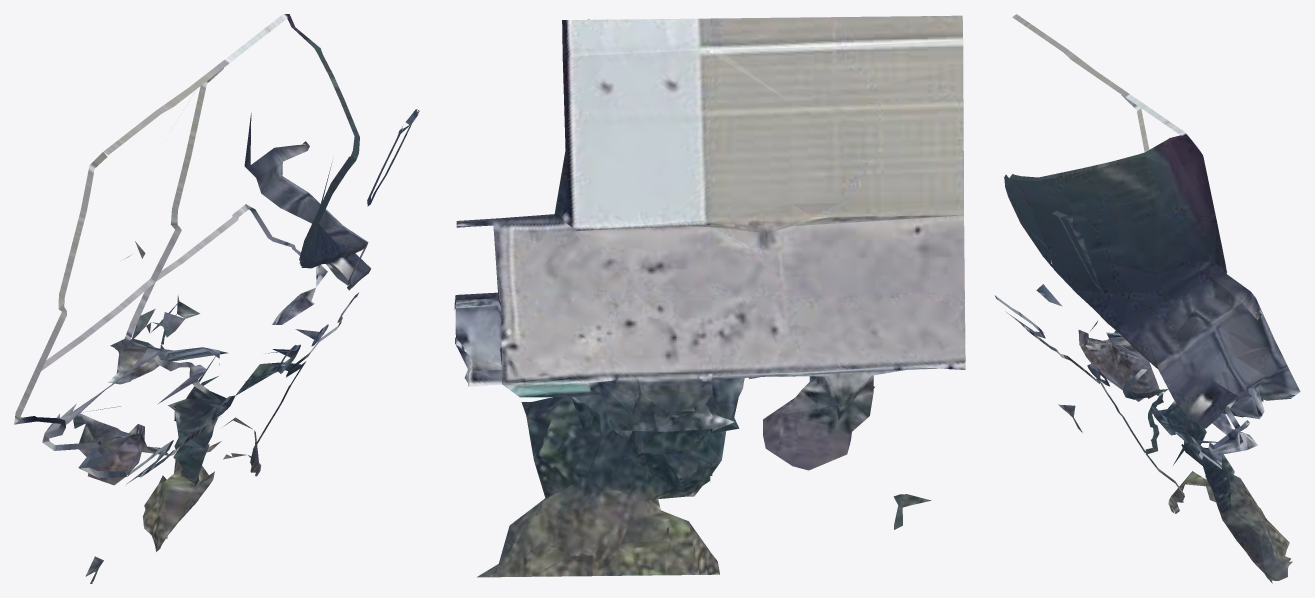
3 renders of one model, left to right at view 1: azimuth 30°, elevation 25°; view 2: azimuth 150°, elevation 25°; view 3: azimuth 270°, elevation 25°, orthographic. The views are drawn at different scales.
Size of the model in its own units: 35.03 by 40.18 by 25.22.
2 materials, 2 textured.
